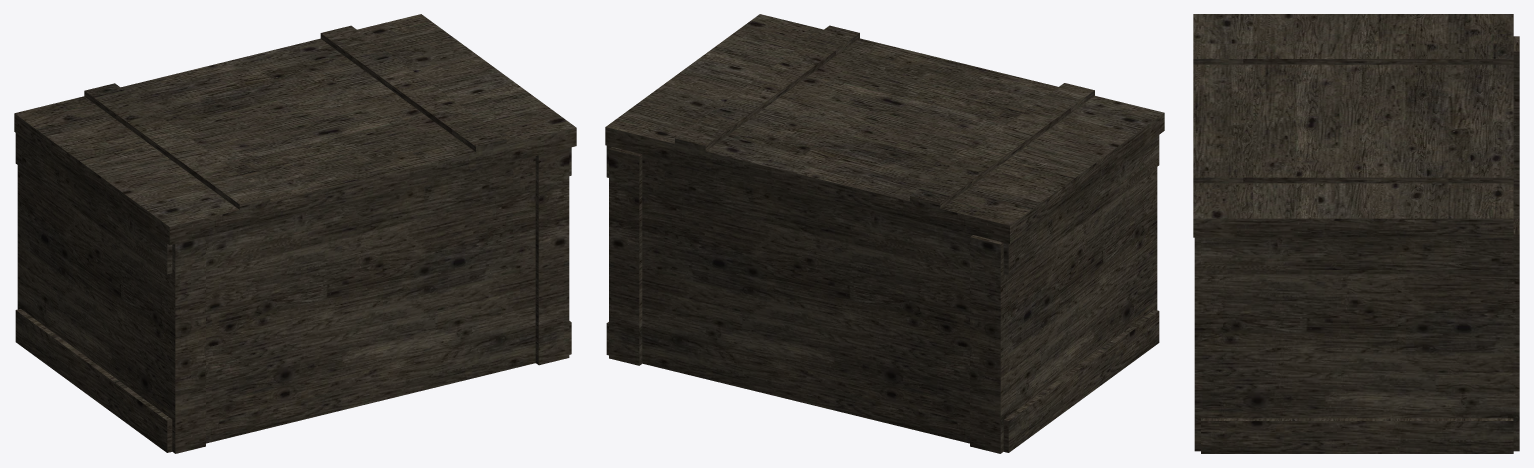
Rendered from crate.aef763a7.glb.
3 views of the same model, side by side, from view 1: azimuth 30°, elevation 25°; view 2: azimuth 150°, elevation 25°; view 3: azimuth 270°, elevation 25° (orthographic). The views are drawn at different scales.
Parts seen in each view (by area): view 1: crate-body, crate-lid; view 2: crate-body, crate-lid; view 3: crate-body, crate-lid.
Part boxes in pixels (x1,y1,x2,y2): crate-body: (15, 133, 571, 453); crate-lid: (14, 14, 576, 245); crate-body: (606, 135, 1159, 453); crate-lid: (605, 14, 1164, 243); crate-body: (1194, 36, 1519, 453); crate-lid: (1193, 14, 1513, 237).
Bounding box in the file's own units: 0.93 × 0.512 × 0.627.
1 material, 1 textured.
